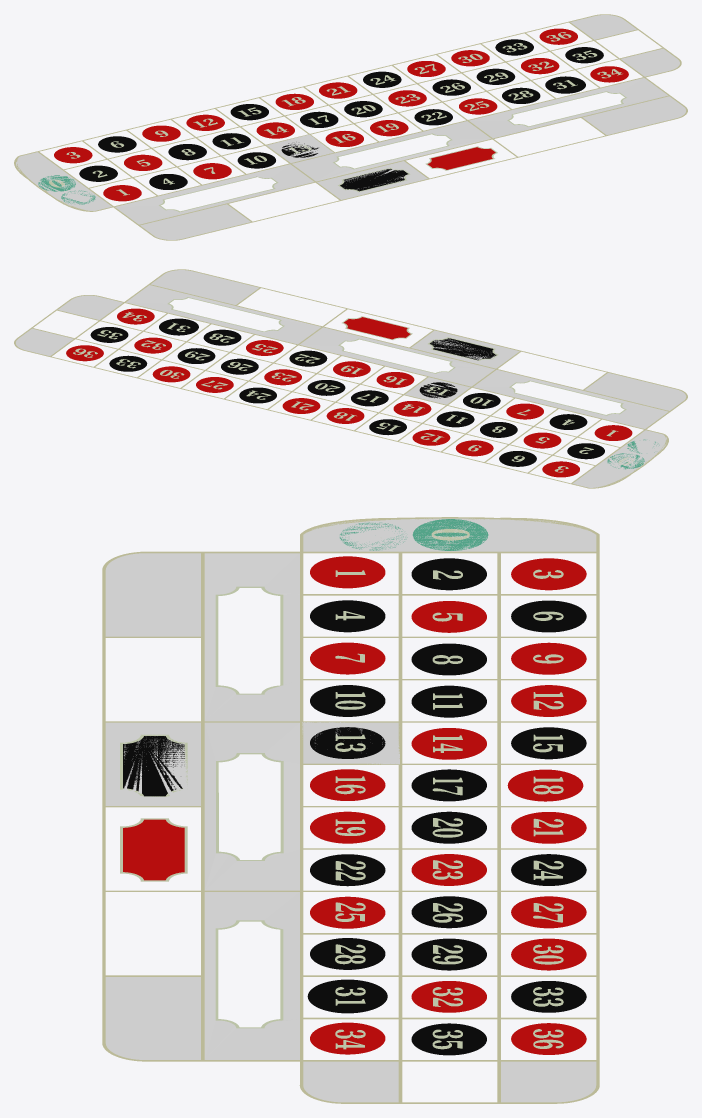
The model's file is Paño.fbx.
3 renders of one model, top to bottom at view 1: azimuth 30°, elevation 25°; view 2: azimuth 150°, elevation 25°; view 3: azimuth 270°, elevation 25°, orthographic. The views are drawn at different scales.
Visible parts, largest first — view 1: Complete 0, Highlight 2nd Dozen, Highlight 1st Dozen, Highlight 3rd Dozen, Highlight 1 to 18, Highlight 19 to 36, Highlight others, Highlight 0 single, Highlight 1st Column, Highlight 3rd Column, Highlight 0 double, Highlight Numbers (+2 smaller); view 2: Complete 0, Highlight 3rd Dozen, Highlight 1st Dozen, Highlight 2nd Dozen, Highlight 19 to 36, Highlight 1 to 18, Highlight 0 single, Highlight others, Highlight 1st Column, Highlight 3rd Column, Highlight 0 double, Highlight Numbers (+1 smaller); view 3: Complete 0, Highlight 1st Dozen, Highlight 2nd Dozen, Highlight 3rd Dozen, Highlight 1 to 18, Highlight 19 to 36, Highlight others, Highlight 1st Column, Highlight 3rd Column, Highlight 0 double, Highlight 00 double, Highlight Numbers (+2 smaller).
Part boxes in pixels (x1,y1,x2,y2): Complete 0: [15, 14, 687, 240]; Highlight 2nd Dozen: [292, 121, 490, 181]; Highlight 1st Dozen: [115, 164, 313, 224]; Highlight 3rd Dozen: [469, 78, 667, 138]; Highlight 1 to 18: [140, 204, 250, 239]; Highlight 19 to 36: [583, 96, 685, 134]; Highlight others: [317, 161, 427, 199]; Highlight 0 single: [17, 152, 111, 210]; Highlight 1st Column: [621, 48, 679, 76]; Highlight 3rd Column: [570, 15, 636, 39]; Highlight 0 double: [45, 180, 111, 210]; Highlight Numbers: [266, 134, 333, 162]; Complete 0: [14, 269, 687, 488]; Highlight 3rd Dozen: [126, 285, 320, 344]; Highlight 1st Dozen: [473, 370, 668, 428]; Highlight 2nd Dozen: [299, 327, 494, 386]; Highlight 19 to 36: [151, 270, 258, 304]; Highlight 1 to 18: [585, 373, 686, 410]; Highlight 0 single: [574, 430, 664, 487]; Highlight others: [411, 330, 519, 368]; Highlight 1st Column: [58, 295, 122, 319]; Highlight 3rd Column: [16, 328, 73, 355]; Highlight 0 double: [610, 430, 666, 463]; Highlight Numbers: [405, 377, 469, 404]; Complete 0: [102, 517, 599, 1103]; Highlight 1st Dozen: [204, 553, 299, 721]; Highlight 2nd Dozen: [204, 722, 299, 890]; Highlight 3rd Dozen: [204, 892, 299, 1059]; Highlight 1 to 18: [105, 553, 200, 636]; Highlight 19 to 36: [105, 977, 200, 1059]; Highlight others: [105, 722, 200, 805]; Highlight 1st Column: [303, 1061, 398, 1102]; Highlight 3rd Column: [501, 1061, 596, 1102]; Highlight 0 double: [303, 519, 447, 551]; Highlight 00 double: [451, 519, 596, 551]; Highlight Numbers: [302, 722, 399, 764].
Size of the model in its own units: 39.07 by 0.0165 by 14.
